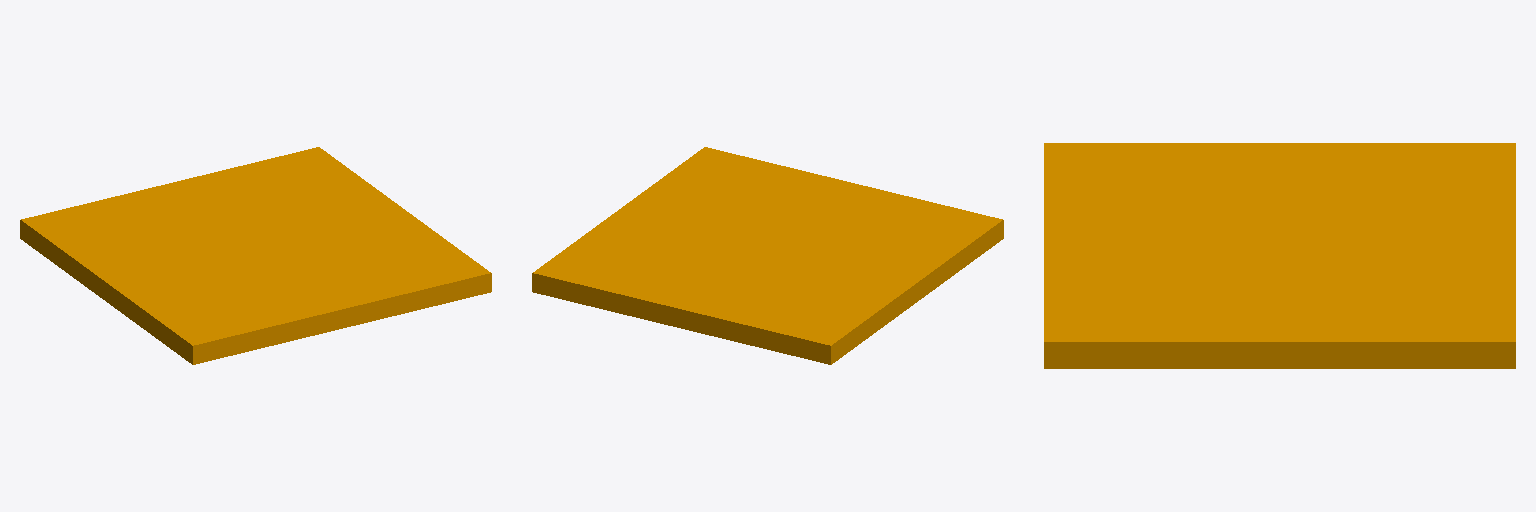
robot.urdf — ar_2020:
<robot name="ar_2020">

	<!-- * * * Link Definitions * * * -->

    <link name="simple_box_base_link">
 	    <inertial>
            <origin xyz="0 0 0" rpy="0 0 0"/>
            <mass value="1.0" />
            <inertia ixx="0.0741666666667" ixy="0.0" ixz="0.0" iyy="0.0585416666667" iyz="0.0" izz="0.0260416666667"/>
        </inertial>
        <collision>
            <origin xyz="0 0 0" rpy="0 0 0"/>
            <geometry>
                <box size="0.2 0.2 0.2"/>
            </geometry>
        </collision>
        <visual>
            <origin rpy="0.0 0 0" xyz="0 0 0"/>
            <geometry>
                <!--<box size="0.8 0.8 0.2"/>-->
                <mesh filename="package://greenbot_description/meshes/myartag.dae"/>
            </geometry>
        </visual>
    </link>
    
    <gazebo reference="simple_box_base_link">
        <kp>100000.0</kp>
        <kd>100000.0</kd>
        <mu1>0.1</mu1>
        <mu2>0.1</mu2>
        <fdir1>1 0 0</fdir1>
    </gazebo>

</robot>

--- Facts derived from the render (not from the file) ---
3 views of the same robot in one strip: view 1: azimuth 30°, elevation 25°; view 2: azimuth 150°, elevation 25°; view 3: azimuth 270°, elevation 25° (orthographic).
Model ar_2020 with 1 links and 0 joints (none), rooted at simple_box_base_link, posed every joint at zero.
Visible links, largest first — view 1: simple_box_base_link; view 2: simple_box_base_link; view 3: simple_box_base_link.
Link boxes in pixels (x1,y1,x2,y2): simple_box_base_link: [20, 147, 491, 364]; simple_box_base_link: [532, 147, 1003, 364]; simple_box_base_link: [1044, 143, 1515, 368].
Bounding box of the posed robot: 0.09 × 0.09 × 0.0056 m (x, y, z).
Meshes: 1 distinct files referenced, 1 mesh visuals loaded (1 Collada DAE).